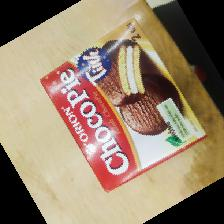Chocopie: (37, 16, 209, 193)
